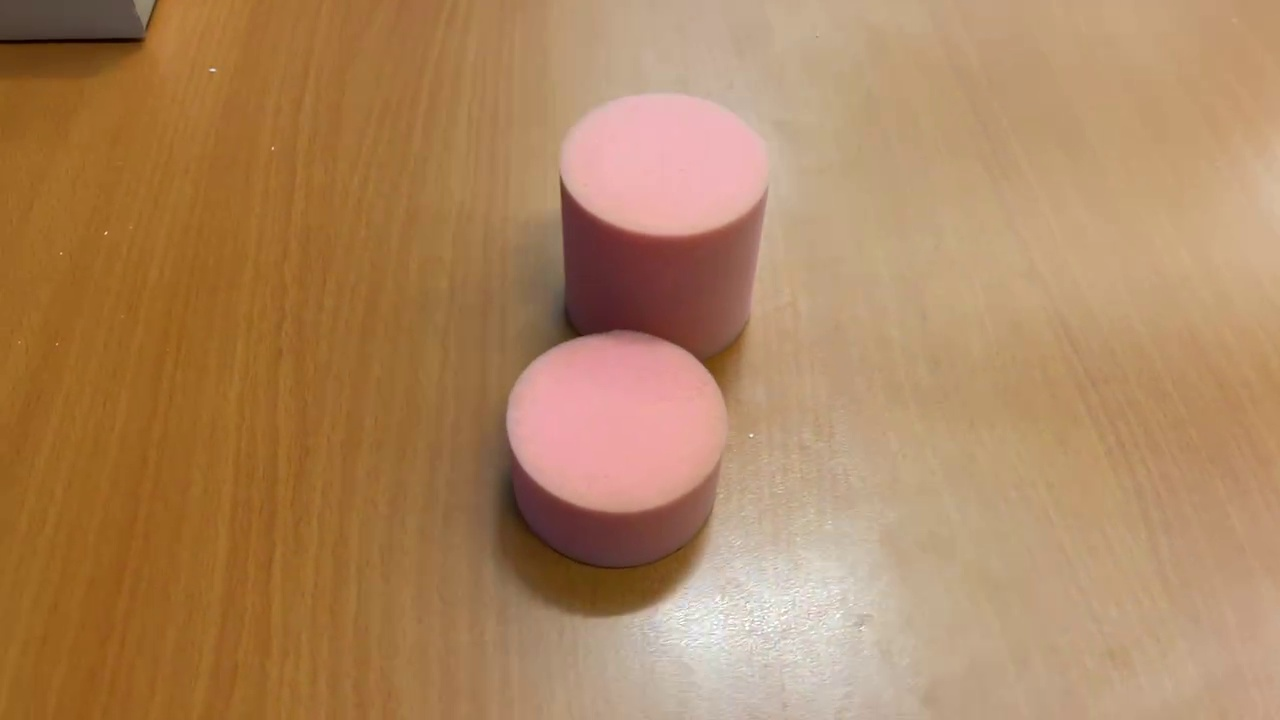Clyinder_short: (499, 321, 736, 572)
Cylinder: (544, 85, 777, 361)
